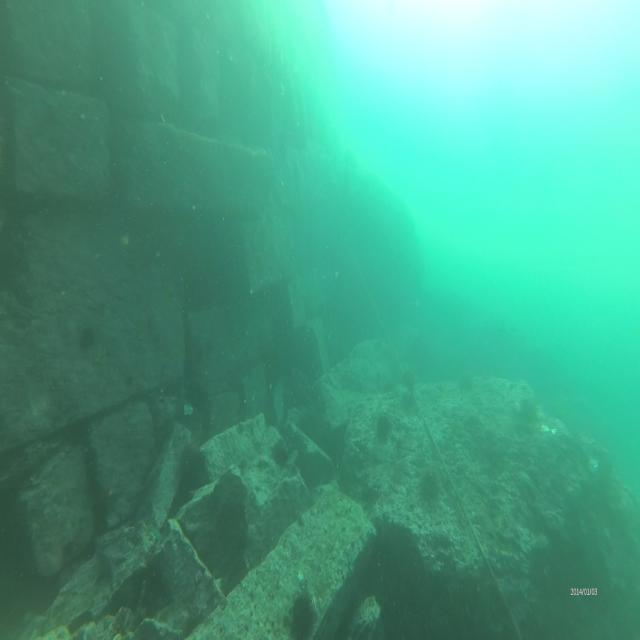echinus: (290, 584, 321, 639), (180, 442, 212, 488), (418, 463, 447, 507), (272, 438, 294, 470), (376, 410, 394, 446)
